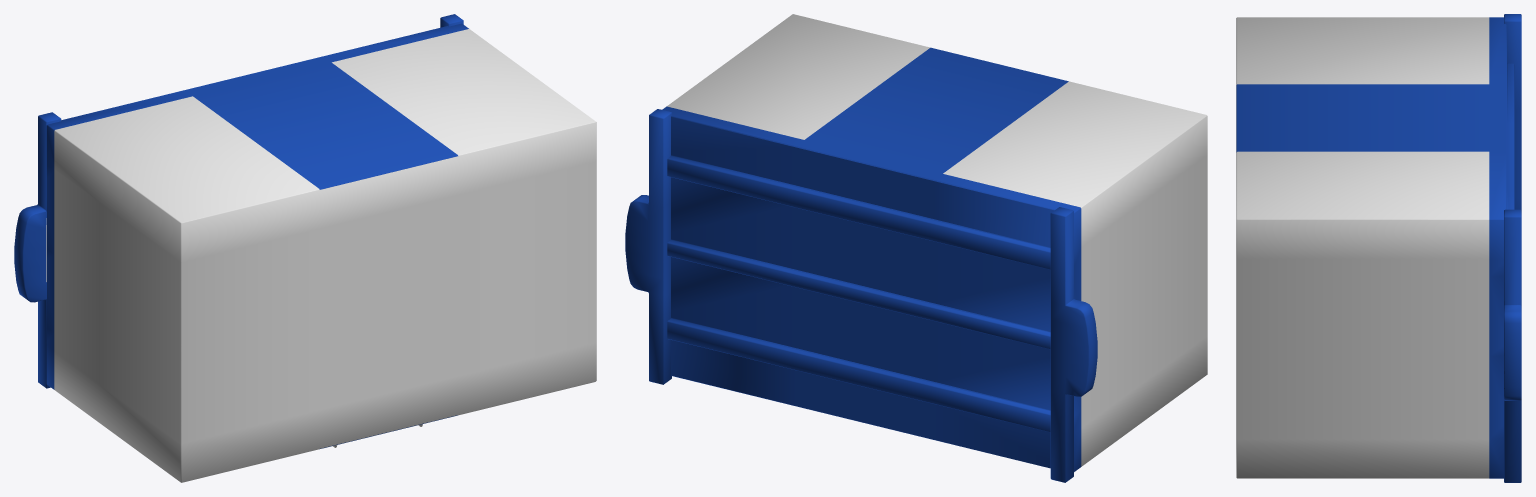
3 views of the same model, side by side, from view 1: azimuth 30°, elevation 25°; view 2: azimuth 150°, elevation 25°; view 3: azimuth 270°, elevation 25° (orthographic).
Visible parts, largest first — view 1: Cube; view 2: Cube; view 3: Cube.
Part boxes in pixels (x1=…): Cube: x1=14, y1=14, x2=596, y2=482; Cube: x1=625, y1=14, x2=1207, y2=482; Cube: x1=1236, y1=14, x2=1521, y2=482.
Bounding box in the file's own units: 63.46 × 36.1 × 33.84.
